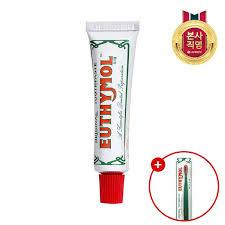toothpaste: (87, 18, 139, 211)
